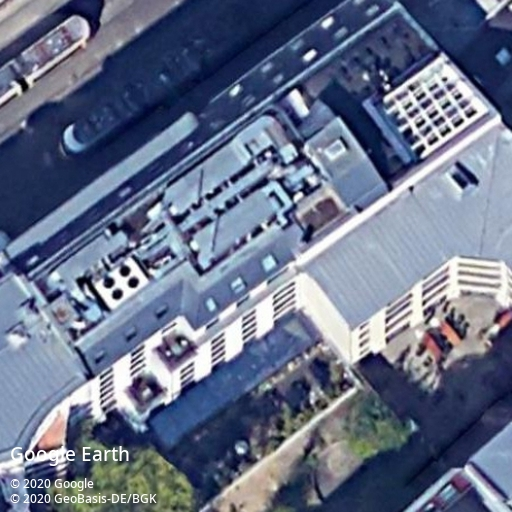Chiller: (91, 255, 152, 312)
